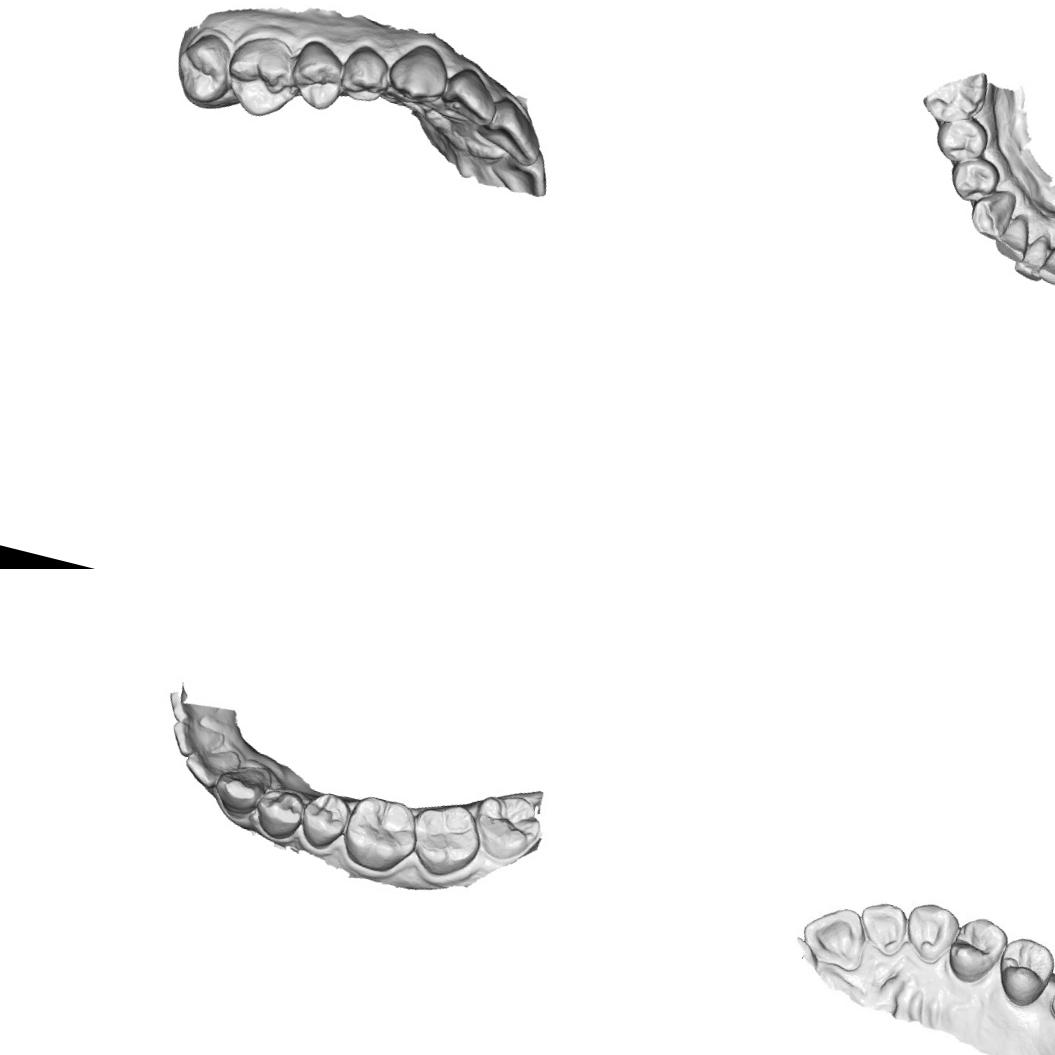canine: (382, 34, 458, 111), (898, 895, 962, 968), (208, 756, 274, 825), (965, 181, 1019, 243)
implant: (1044, 978, 1055, 1029)
incisor: (469, 89, 552, 170), (794, 897, 873, 972), (432, 60, 507, 132), (851, 893, 914, 958), (179, 738, 243, 796), (165, 716, 226, 764), (990, 209, 1035, 264), (1011, 228, 1053, 282), (1035, 232, 1055, 289)
molar: (216, 26, 303, 124), (337, 790, 425, 878), (401, 793, 488, 882), (164, 24, 242, 112), (465, 786, 546, 868), (917, 58, 991, 132)
premolar: (282, 33, 355, 115), (988, 927, 1055, 1013), (940, 909, 1012, 988), (333, 36, 398, 109), (294, 786, 353, 852), (248, 782, 308, 844), (930, 109, 992, 168), (944, 150, 1003, 208)
